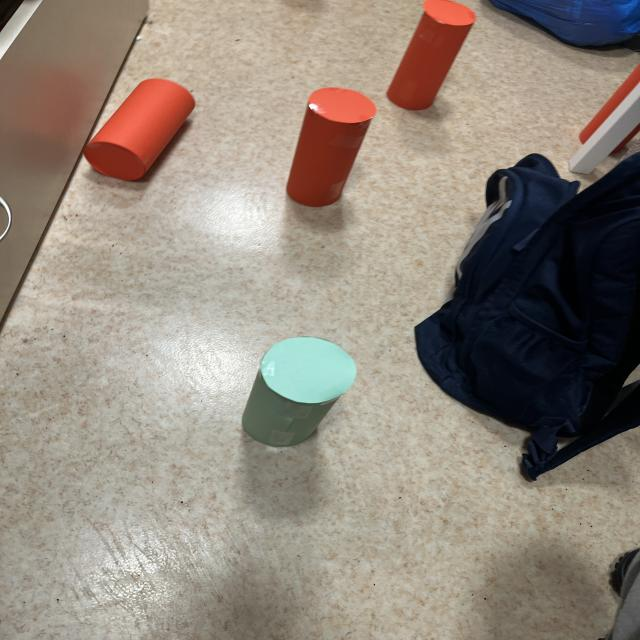meta: (242, 337, 356, 447)
przeszkoda: (84, 78, 194, 180), (286, 88, 376, 206), (386, 0, 474, 110)
